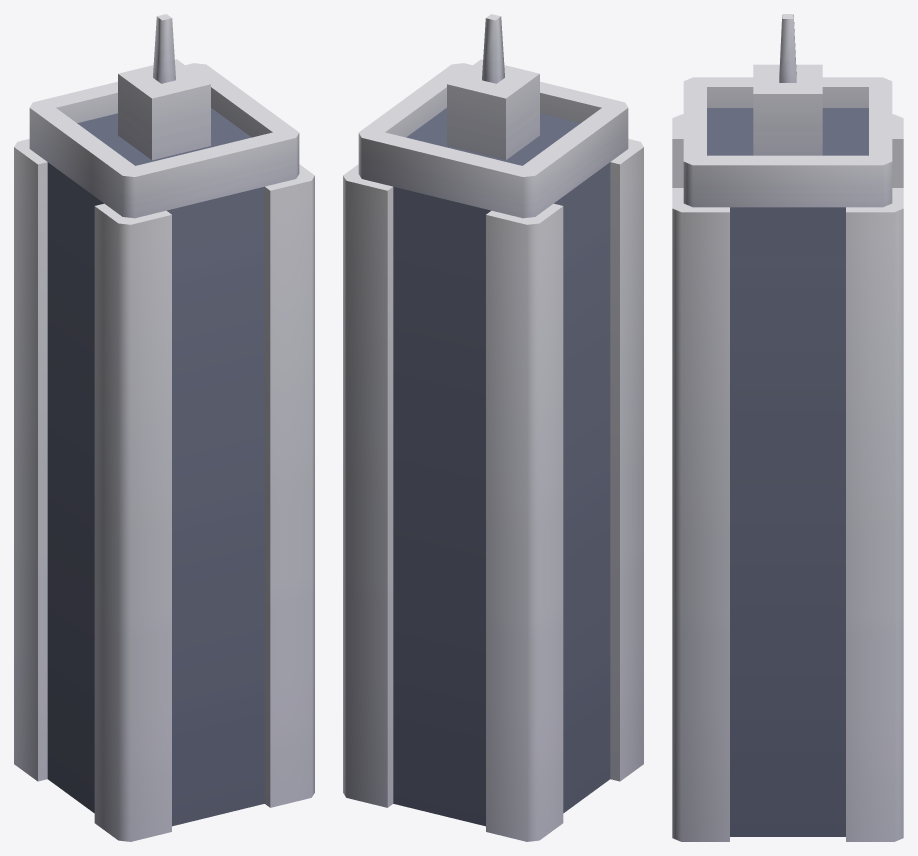
Rendered from low-detail-building-l.glb.
The picture shows the model from 3 angles, left to right: view 1: azimuth 30°, elevation 25°; view 2: azimuth 150°, elevation 25°; view 3: azimuth 270°, elevation 25°; orthographic projection. The views are drawn at different scales.
Visible parts, largest first — view 1: low-detail-building-l; view 2: low-detail-building-l; view 3: low-detail-building-l.
Part boxes in pixels (x1=…): low-detail-building-l: x1=14, y1=14, x2=314, y2=841; low-detail-building-l: x1=343, y1=14, x2=643, y2=841; low-detail-building-l: x1=672, y1=14, x2=903, y2=841.
Size of the model in its own units: 0.5 by 1.85 by 0.5.
Materials: 1 (1 with a texture image).
